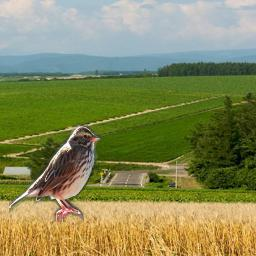Sparrow: (9, 124, 101, 222)
